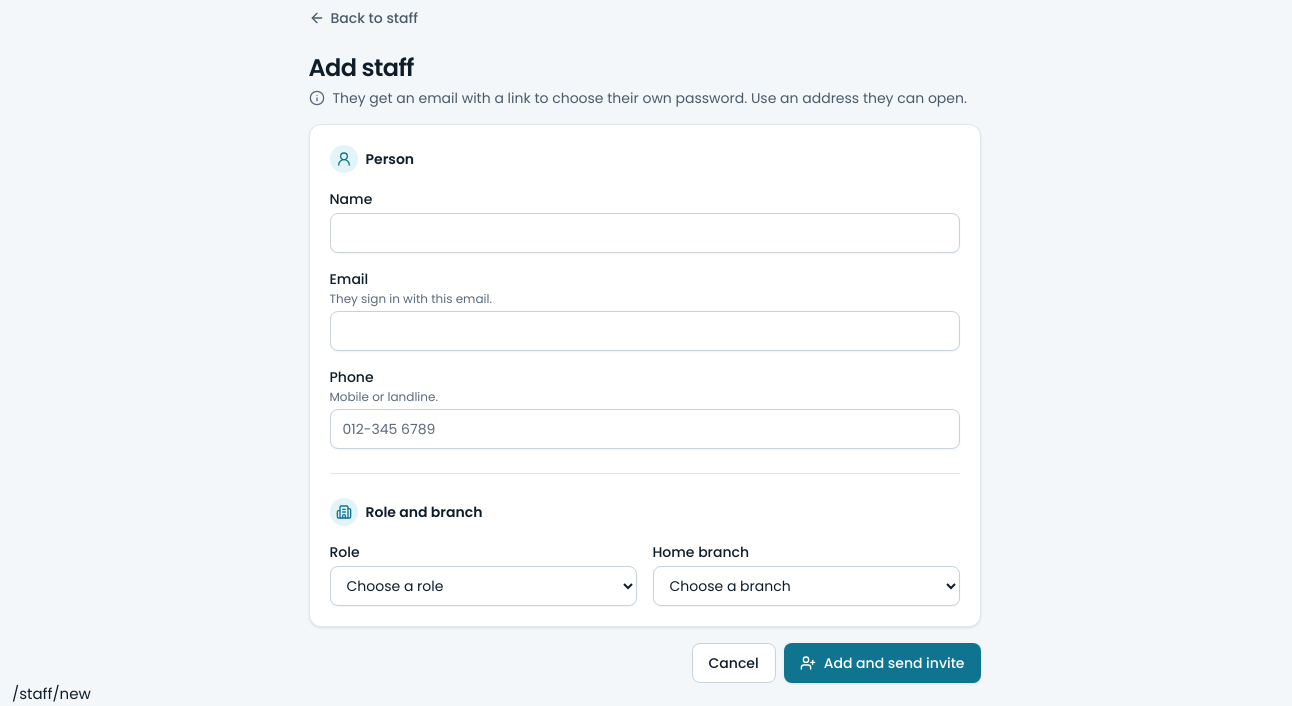
it: Adding staff › shows the server function's refusal and keeps the form
Expected: the heading "Add staff" is shown, [308, 51, 414, 84]
Type "Ravi" into the field labelled "Name".
click(644, 233); type("Ravi")  # box [330, 213, 960, 253]
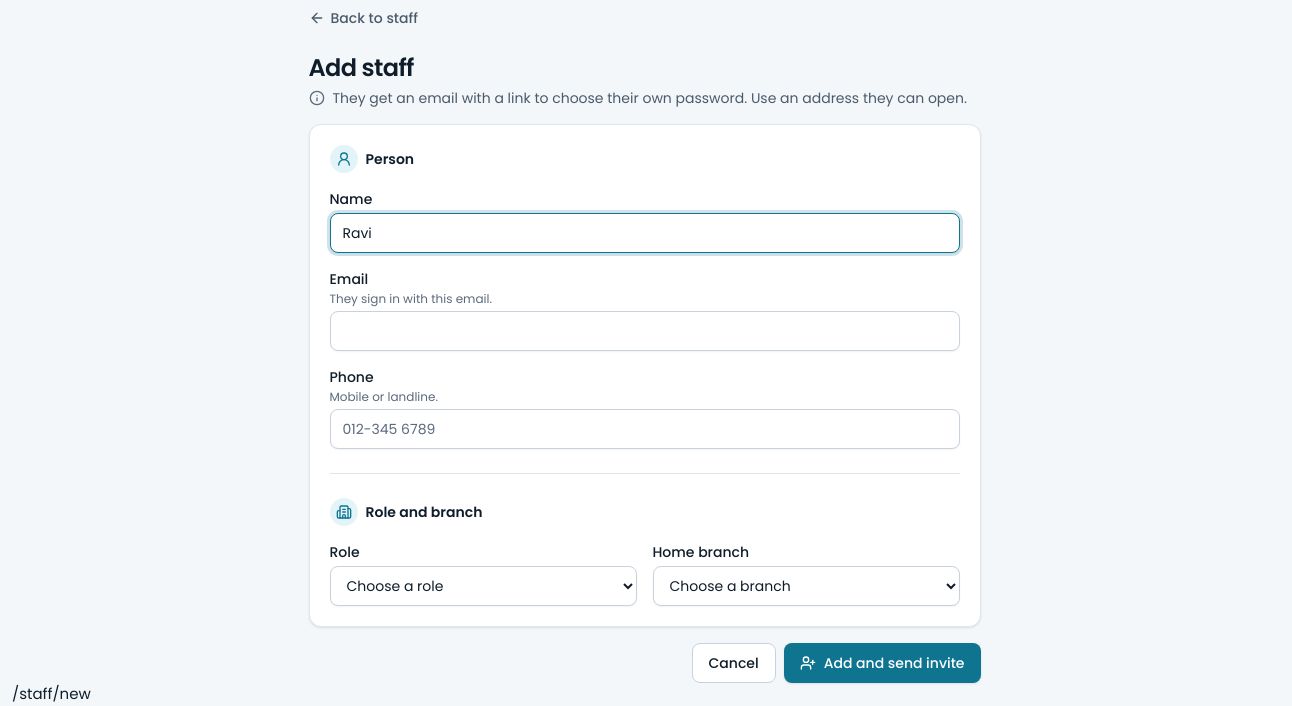
Type "ali@sejuk.example.com" into the field labelled "Email".
click(644, 331); type("ali@sejuk.example.com")  # box [330, 311, 960, 351]
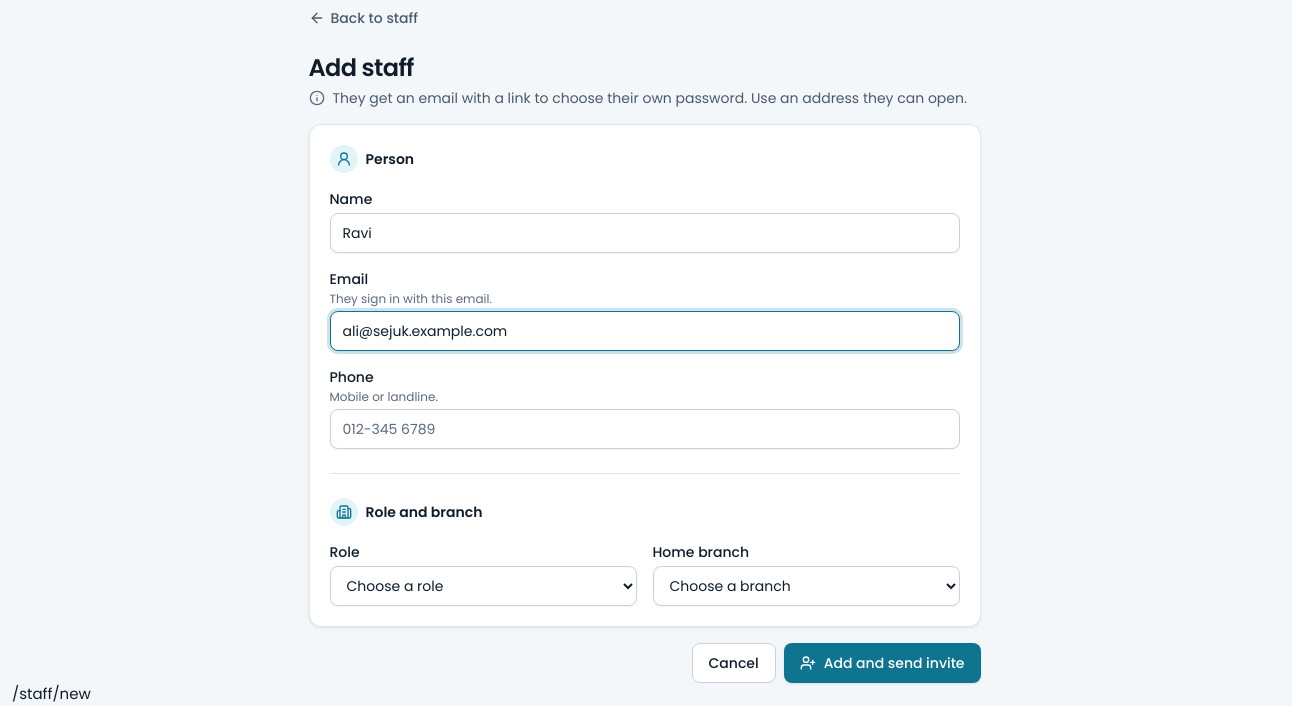
Type "0127771234" into the field labelled "Phone".
click(644, 429); type("0127771234")  # box [330, 409, 960, 449]
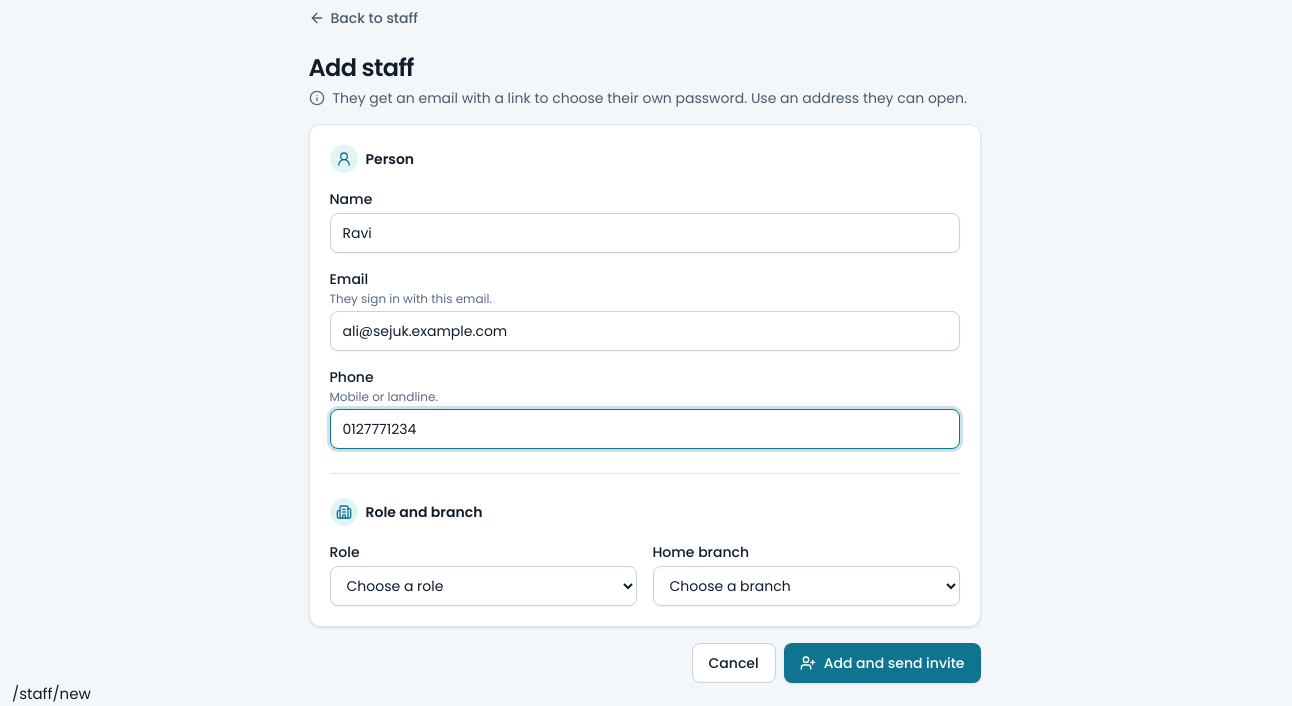
Select "Finance" in the dropdown labelled "Role" at coordinates (483, 586), box [330, 566, 636, 606]
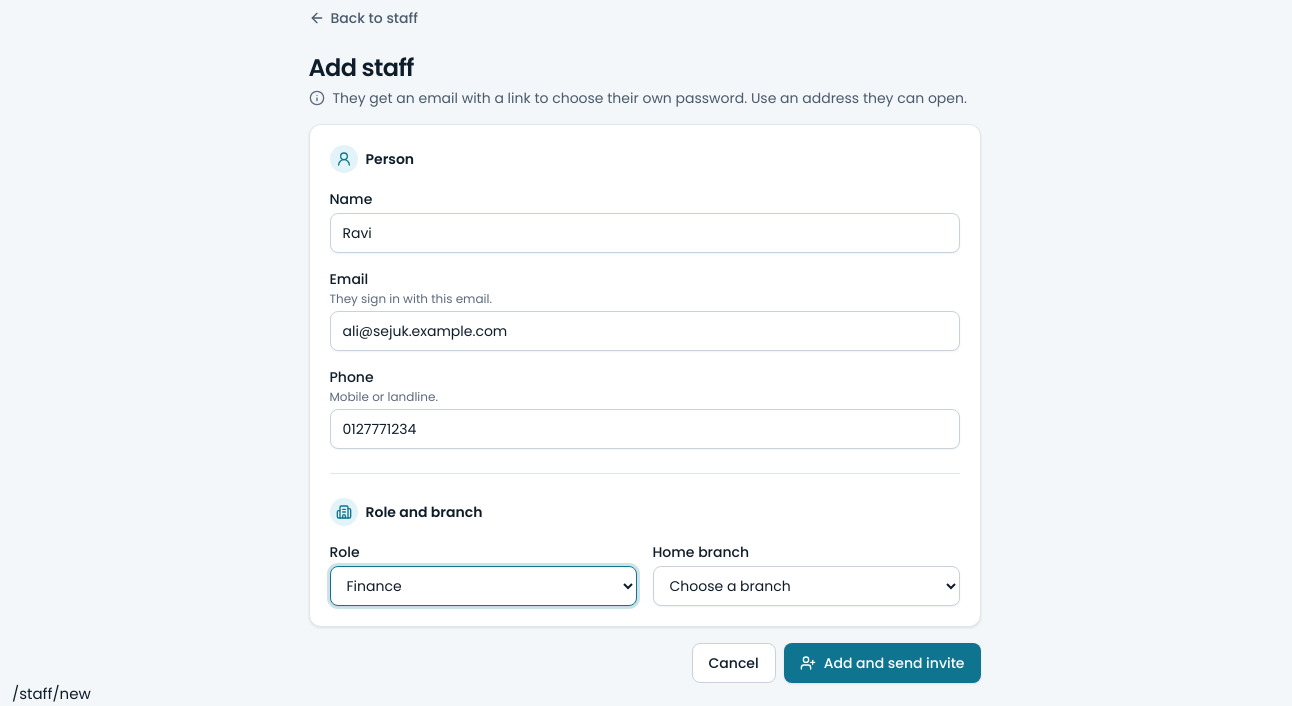
Select "Shah Alam" in the dropdown labelled "Home branch" at coordinates (806, 586), box [652, 566, 960, 606]
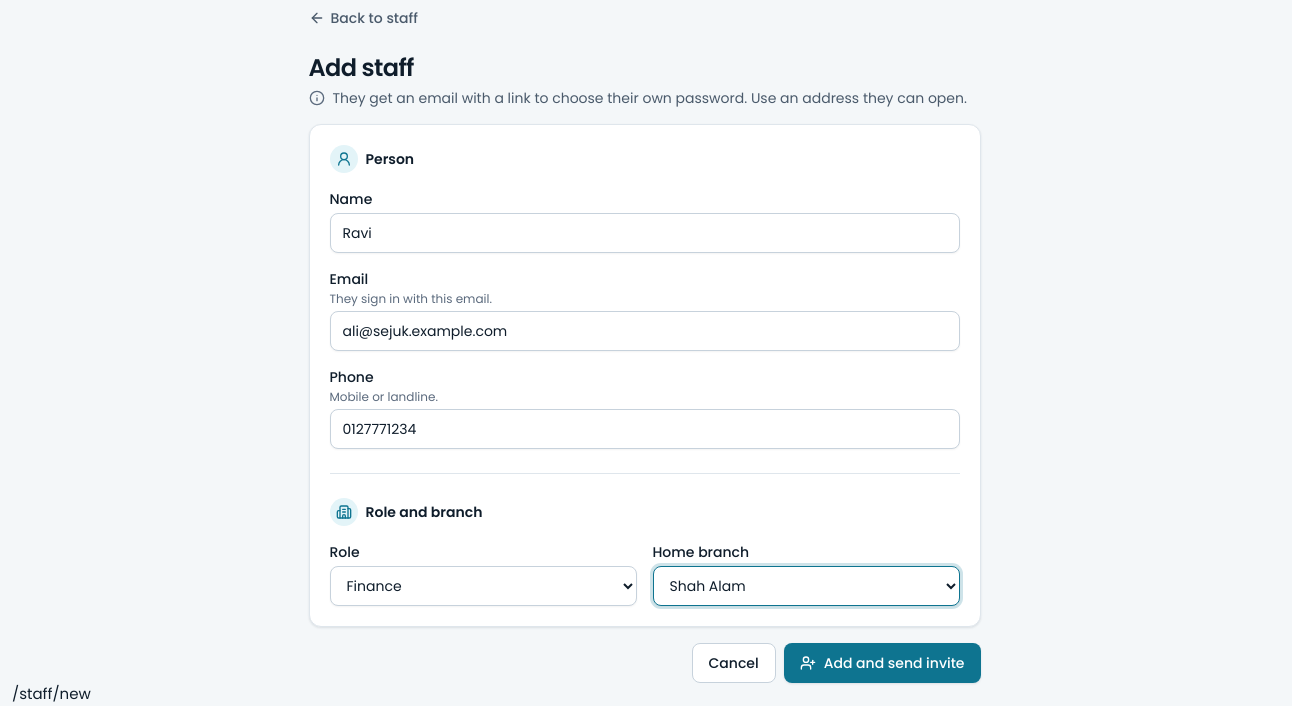
Click the button "Add and send invite".
click(882, 663)  # box [784, 643, 980, 683]
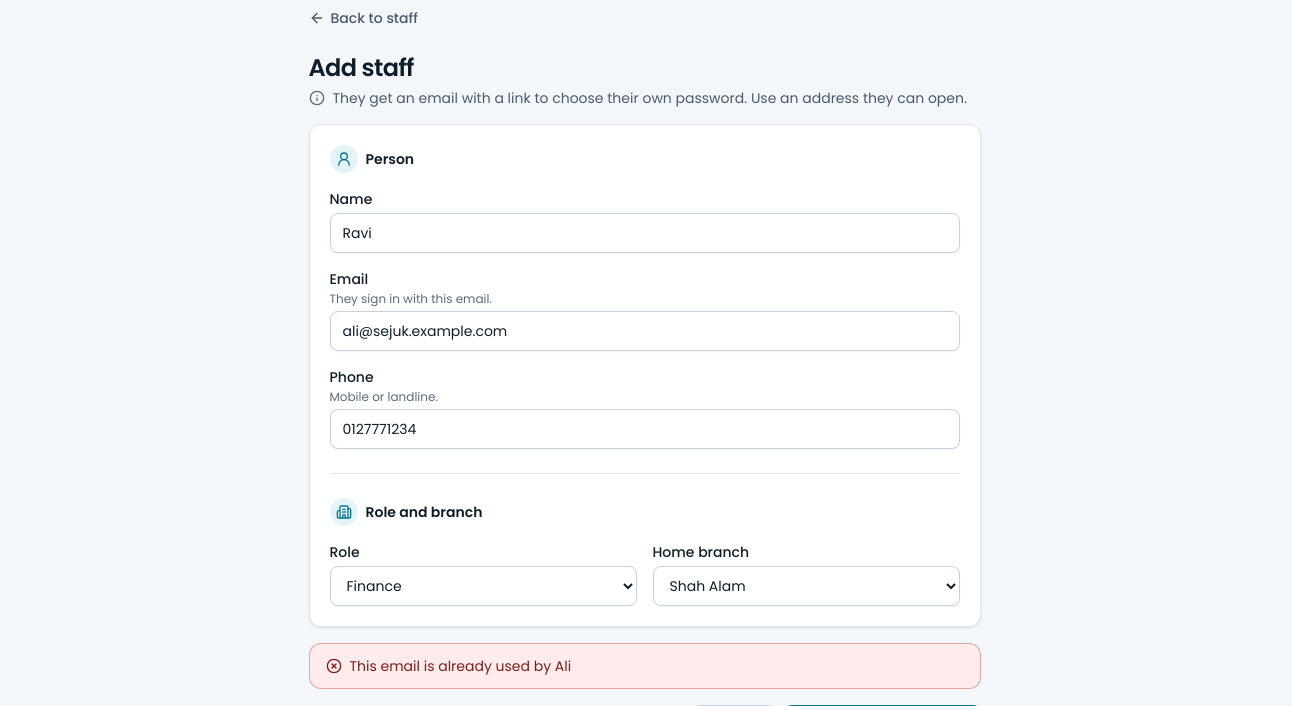
Now the message reads "This email is already used by Ali", box [350, 656, 571, 676]
